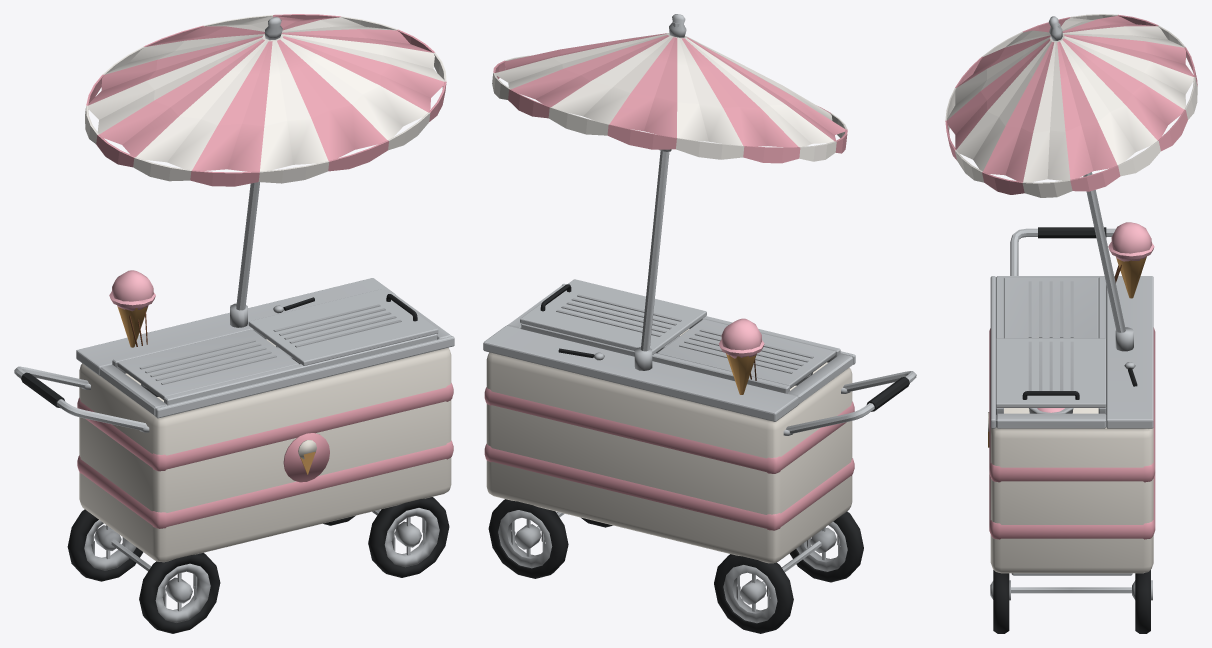
Rendered from iceCreamCart.glb.
3 renders of one model, left to right at view 1: azimuth 30°, elevation 25°; view 2: azimuth 150°, elevation 25°; view 3: azimuth 270°, elevation 25°, orthographic.
Parts seen in each view (by area): view 1: body, lid; view 2: body, lid; view 3: body, lid.
Boxes of the visible parts, x1,y1,x2,y2 form: body: (14,14,454,633); lid: (248,289,438,365); body: (483,14,916,633); lid: (520,279,706,354); body: (945,14,1197,633); lid: (996,338,1106,407).
Bounding box in the file's own units: 1.73 × 2.35 × 0.9598.
